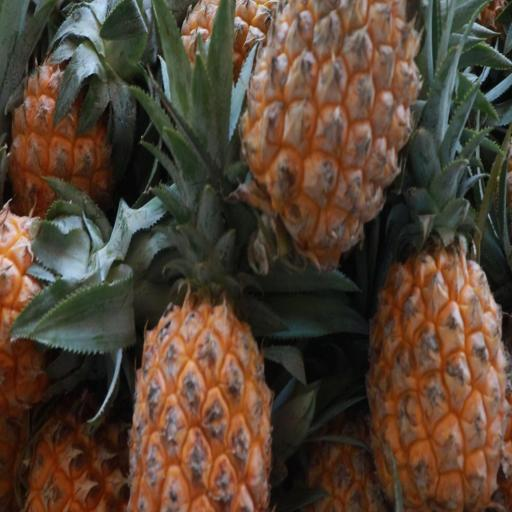Pineapple - v8 v1: (235, 0, 426, 300), (361, 151, 508, 512), (128, 239, 278, 512), (0, 194, 125, 412), (4, 18, 122, 236)
